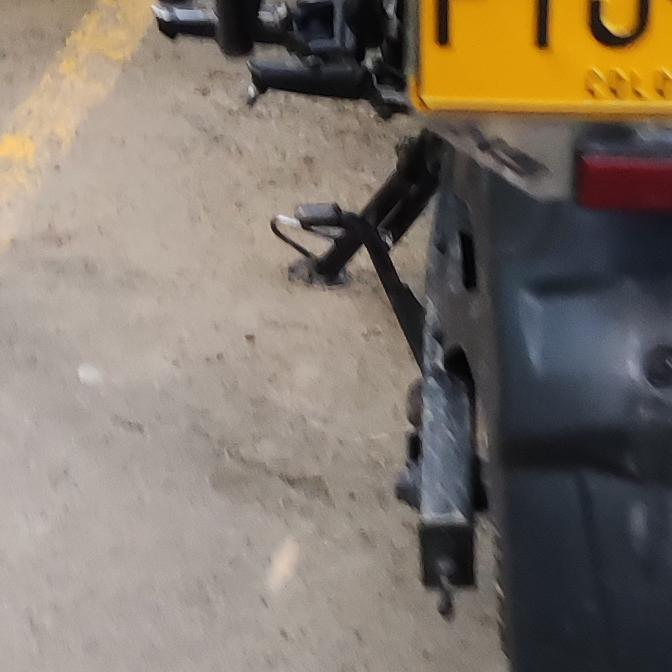plates: (406, 0, 672, 112)
